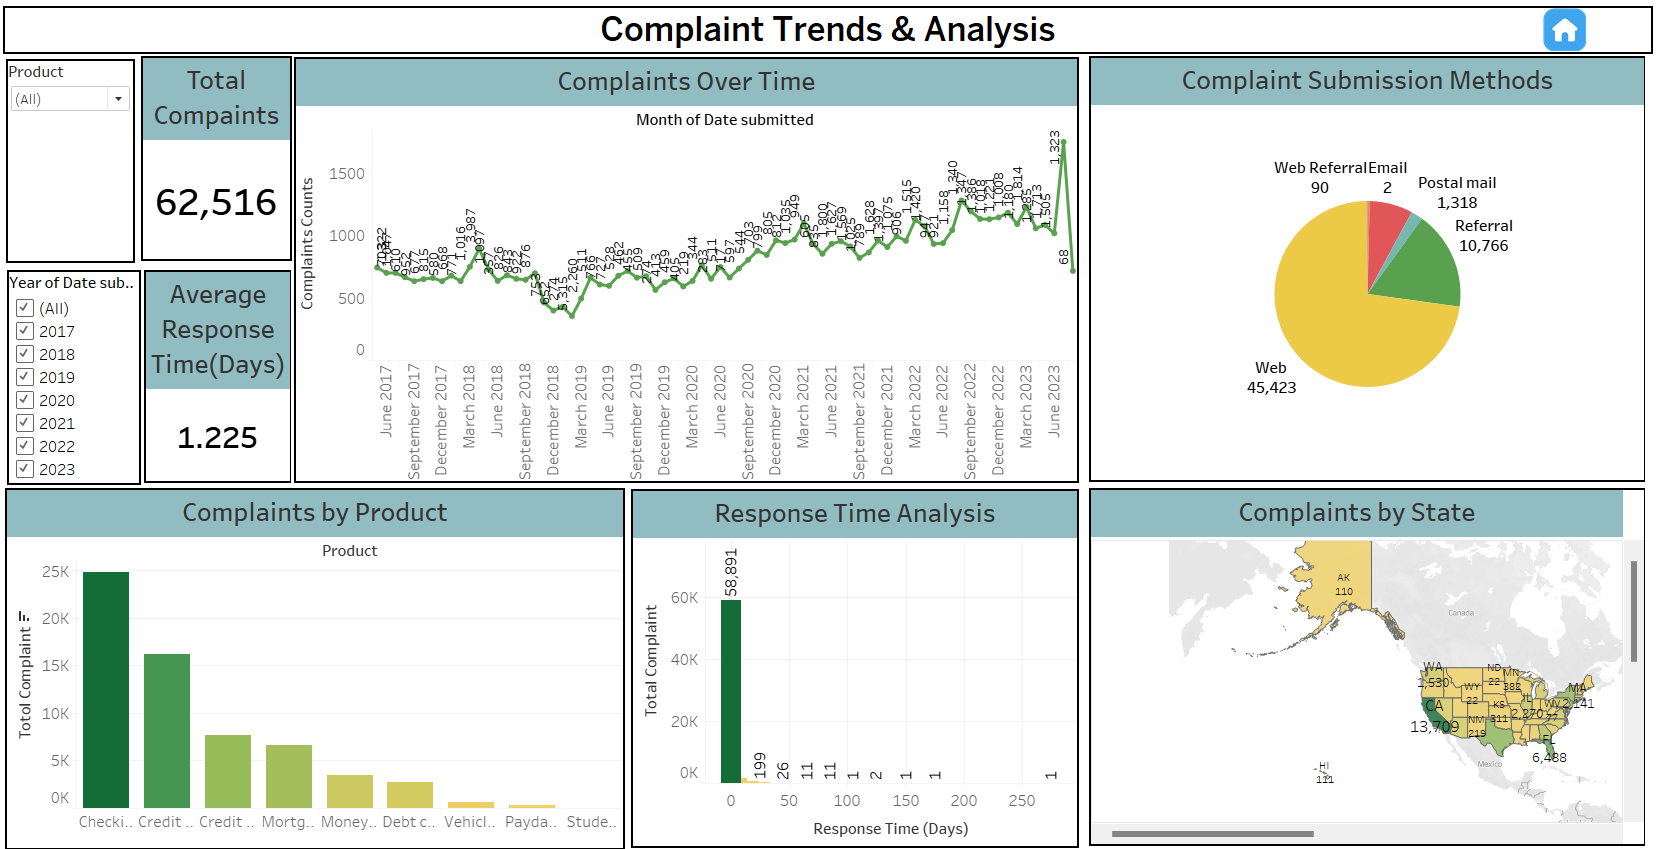

This screenshot's page, from the dashboard's own definition file:
{"tool":"tableau","page":{"name":"Complaint Trends & Analysis Dashboard","canvas":[1650,850],"ordinal":1},"visuals":[{"type":"text","box":[0,3.2,1650,47.8]},{"type":"dashboard-object","box":[1479,5,164,43]},{"type":"worksheet","title":"Total Compaints","mark":"Automatic","box":[138.1,52.9,151.1,204.9]},{"type":"worksheet","title":"Complaint Submission Methods","mark":"Pie","box":[1085.5,52.9,556.7,425.9]},{"type":"worksheet","title":"Complaints Over Time","mark":"Automatic","rows":["Calculation_477100126945923074"],"cols":["Date submitted"],"box":[290.9,53.8,785.1,425.9]},{"type":"filter","title":"Complaints by State","param":"[federated.1016b2r1jjwff414c6sd409xoqu5].[none:Product:nk]","box":[3.5,55.7,129.4,204]},{"type":"filter","title":"Total Compaints","param":"[federated.1016b2r1jjwff414c6sd409xoqu5].[yr:Date submitted:ok]","box":[4.3,267.3,133.7,215.3]},{"type":"worksheet","title":"Average Response Time(Days)","mark":"Automatic","box":[140.7,267.3,147.6,213.4]},{"type":"worksheet","title":"Complaints by Product","mark":"Automatic","rows":["Complaint ID"],"cols":["Product"],"box":[1.7,485.4,620.1,361.7]},{"type":"worksheet","title":"Complaints by State","mark":"Multipolygon","box":[1085.5,485.4,556.7,357.9]},{"type":"worksheet","title":"Response Time Analysis","mark":"Automatic","rows":["Complaint ID"],"cols":["Response Time (Days) (bin)"],"box":[627.9,486.4,448.1,358.9]}]}

Visuals, with their boxes in screenshot pixels (x1, y1, x2, y2), scaled from the page's 1650x850 canvas onto the 1660x849 screenshot:
text: (x1=0, y1=3, x2=1659, y2=51)
dashboard-object: (x1=1488, y1=5, x2=1653, y2=48)
"Total Compaints" worksheet: (x1=139, y1=53, x2=291, y2=257)
"Complaint Submission Methods" worksheet (Pie marks): (x1=1092, y1=53, x2=1652, y2=478)
"Complaints Over Time" worksheet: (x1=293, y1=54, x2=1083, y2=479)
"Complaints by State" filter: (x1=4, y1=56, x2=134, y2=259)
"Total Compaints" filter: (x1=4, y1=267, x2=139, y2=482)
"Average Response Time(Days)" worksheet: (x1=142, y1=267, x2=290, y2=480)
"Complaints by Product" worksheet: (x1=2, y1=485, x2=626, y2=846)
"Complaints by State" worksheet (Multipolygon marks): (x1=1092, y1=485, x2=1652, y2=842)
"Response Time Analysis" worksheet: (x1=632, y1=486, x2=1083, y2=844)
